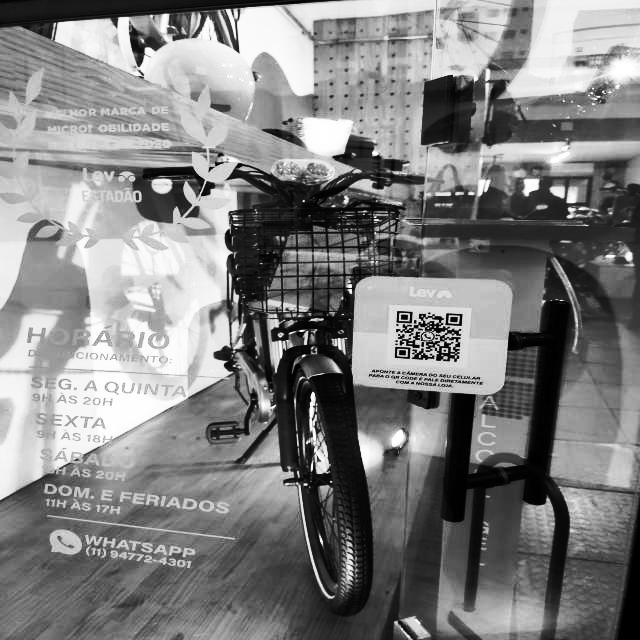qr_code: (395, 311, 462, 362)
